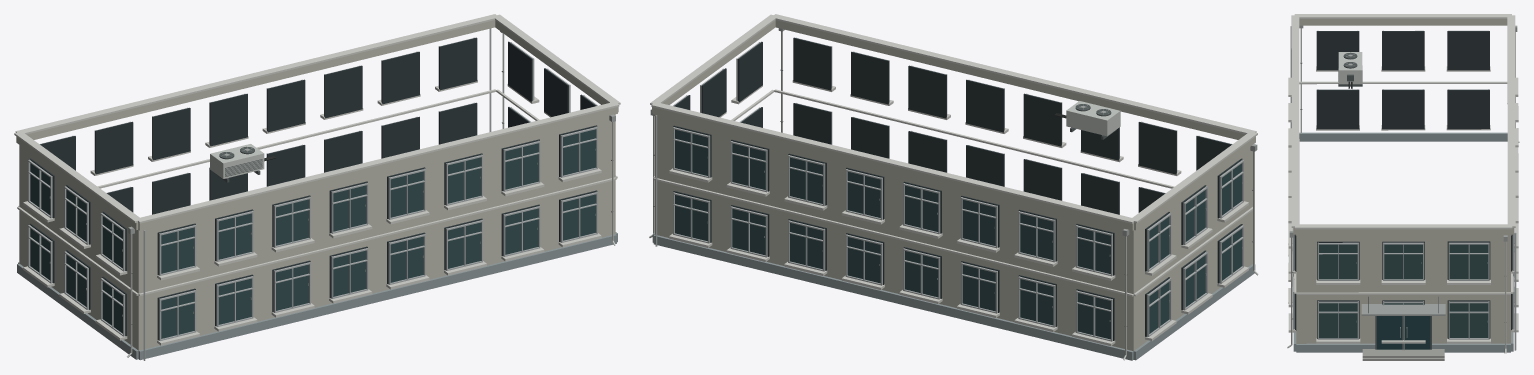
Rendered from osm_way_223859828.glb.
The picture shows the model from 3 angles, left to right: view 1: azimuth 30°, elevation 25°; view 2: azimuth 150°, elevation 25°; view 3: azimuth 270°, elevation 25°; orthographic projection. The views are drawn at different scales.
Parts seen in each view (by area): view 1: Windows and facade details | osm_way_223859828, Architecture | osm_way_223859828, Roof services | osm_way_223859828, EXTERIOR::osm_way_223859828::rainwater and roof service deta; view 2: Windows and facade details | osm_way_223859828, Architecture | osm_way_223859828, Roof services | osm_way_223859828, EXTERIOR::osm_way_223859828::rainwater and roof service deta; view 3: Windows and facade details | osm_way_223859828, Architecture | osm_way_223859828, Roof services | osm_way_223859828, EXTERIOR::osm_way_223859828::inferred entry doors canopy and, EXTERIOR::osm_way_223859828::rainwater and roof service deta.
Part boxes in pixels (box(x1,y1,x2,y2)): Windows and facade details | osm_way_223859828: box(23, 28, 601, 360); Architecture | osm_way_223859828: box(16, 20, 618, 360); Roof services | osm_way_223859828: box(14, 14, 620, 223); EXTERIOR::osm_way_223859828::rainwater and roof service deta: box(127, 31, 615, 357); Windows and facade details | osm_way_223859828: box(655, 37, 1248, 345); Architecture | osm_way_223859828: box(652, 20, 1255, 360); Roof services | osm_way_223859828: box(650, 14, 1257, 223); EXTERIOR::osm_way_223859828::rainwater and roof service deta: box(649, 28, 1258, 360); Windows and facade details | osm_way_223859828: box(1288, 26, 1518, 350); Architecture | osm_way_223859828: box(1293, 19, 1513, 352); Roof services | osm_way_223859828: box(1291, 14, 1515, 229); EXTERIOR::osm_way_223859828::inferred entry doors canopy and: box(1361, 296, 1445, 360); EXTERIOR::osm_way_223859828::rainwater and roof service deta: box(1287, 25, 1519, 353).
Size of the model in its own units: 31.09 by 8.98 by 13.66.
